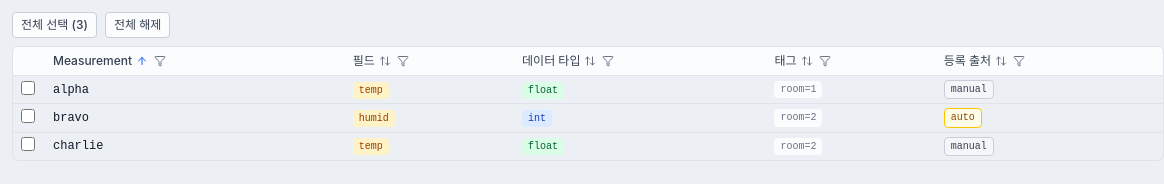
Scenario: 필터 팝오버 배치 (회귀) › 필터 버튼을 다시 누르면 닫힌다
Click the button with test id "series-filter-field": click(403, 61) [395,53,411,69]
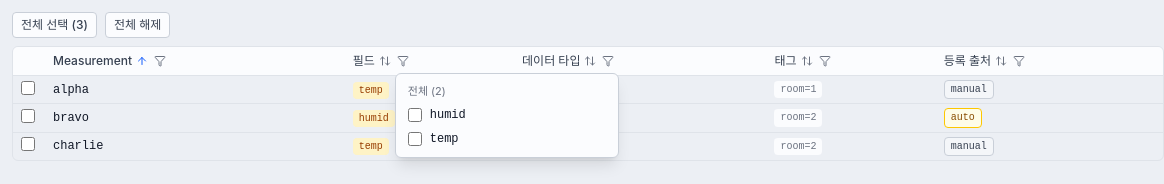
Expected: the element with test id "series-filter-popover-field" is shown, [395,73,619,158]
Click the button with test id "series-filter-field": click(403, 61) [395,53,411,69]
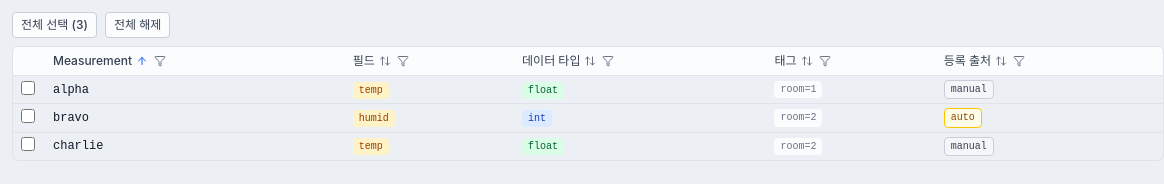
Expected: the element with test id "series-filter-popover-field" is gone
